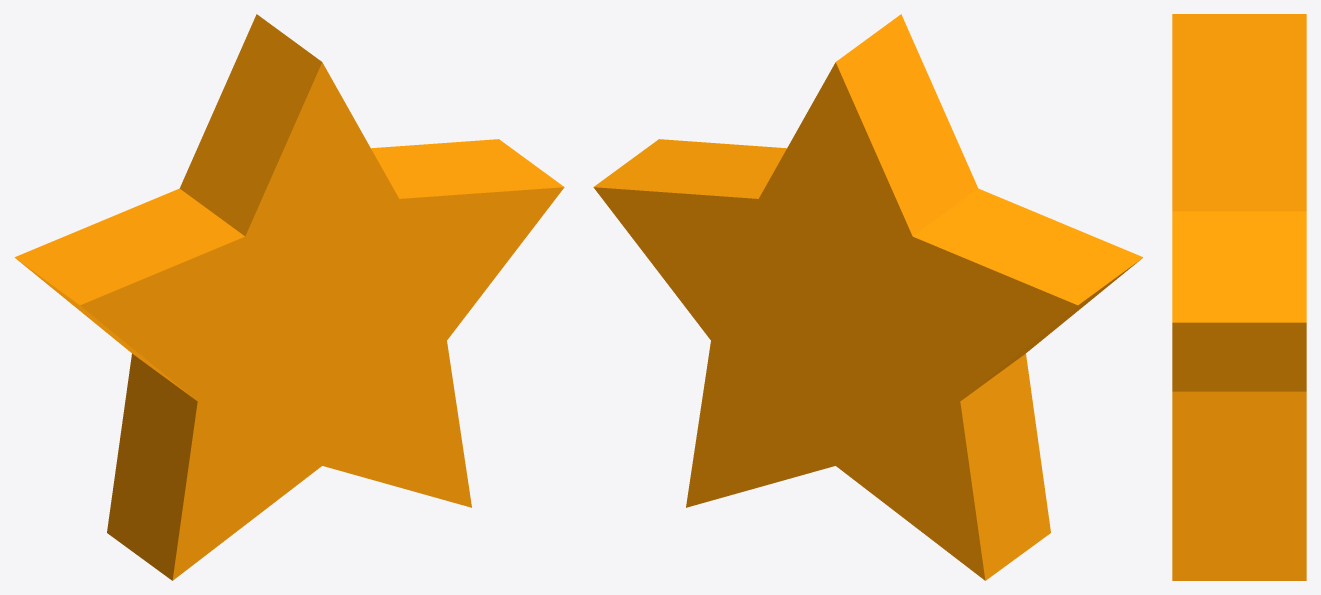
File: star.fbx
3 renders of one model, left to right at view 1: azimuth 30°, elevation 25°; view 2: azimuth 150°, elevation 25°; view 3: azimuth 270°, elevation 25°, orthographic. The views are drawn at different scales.
Parts seen in each view (by area): view 1: star; view 2: star; view 3: star.
Boxes of the visible parts, left/top/right/bottom form: star: left=14, top=14, right=564, bottom=580; star: left=593, top=14, right=1143, bottom=580; star: left=1172, top=14, right=1306, bottom=580.
Bounding box in the file's own units: 50.33 × 204 × 214.
